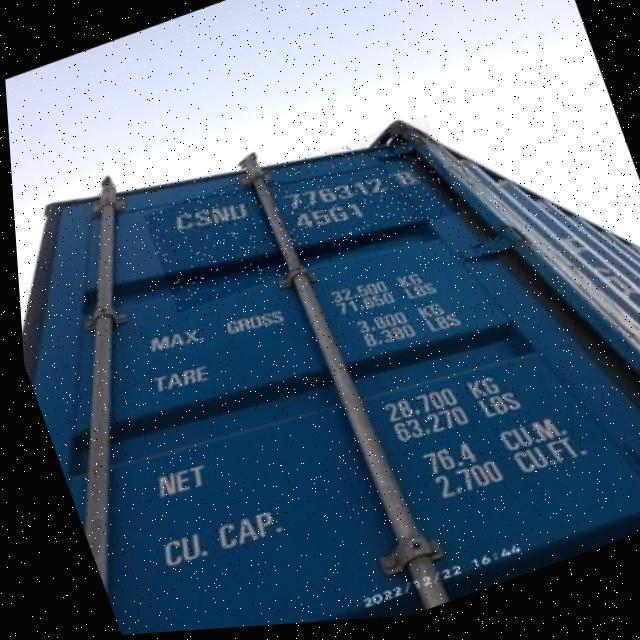container_number_h: (135, 118, 462, 317)
